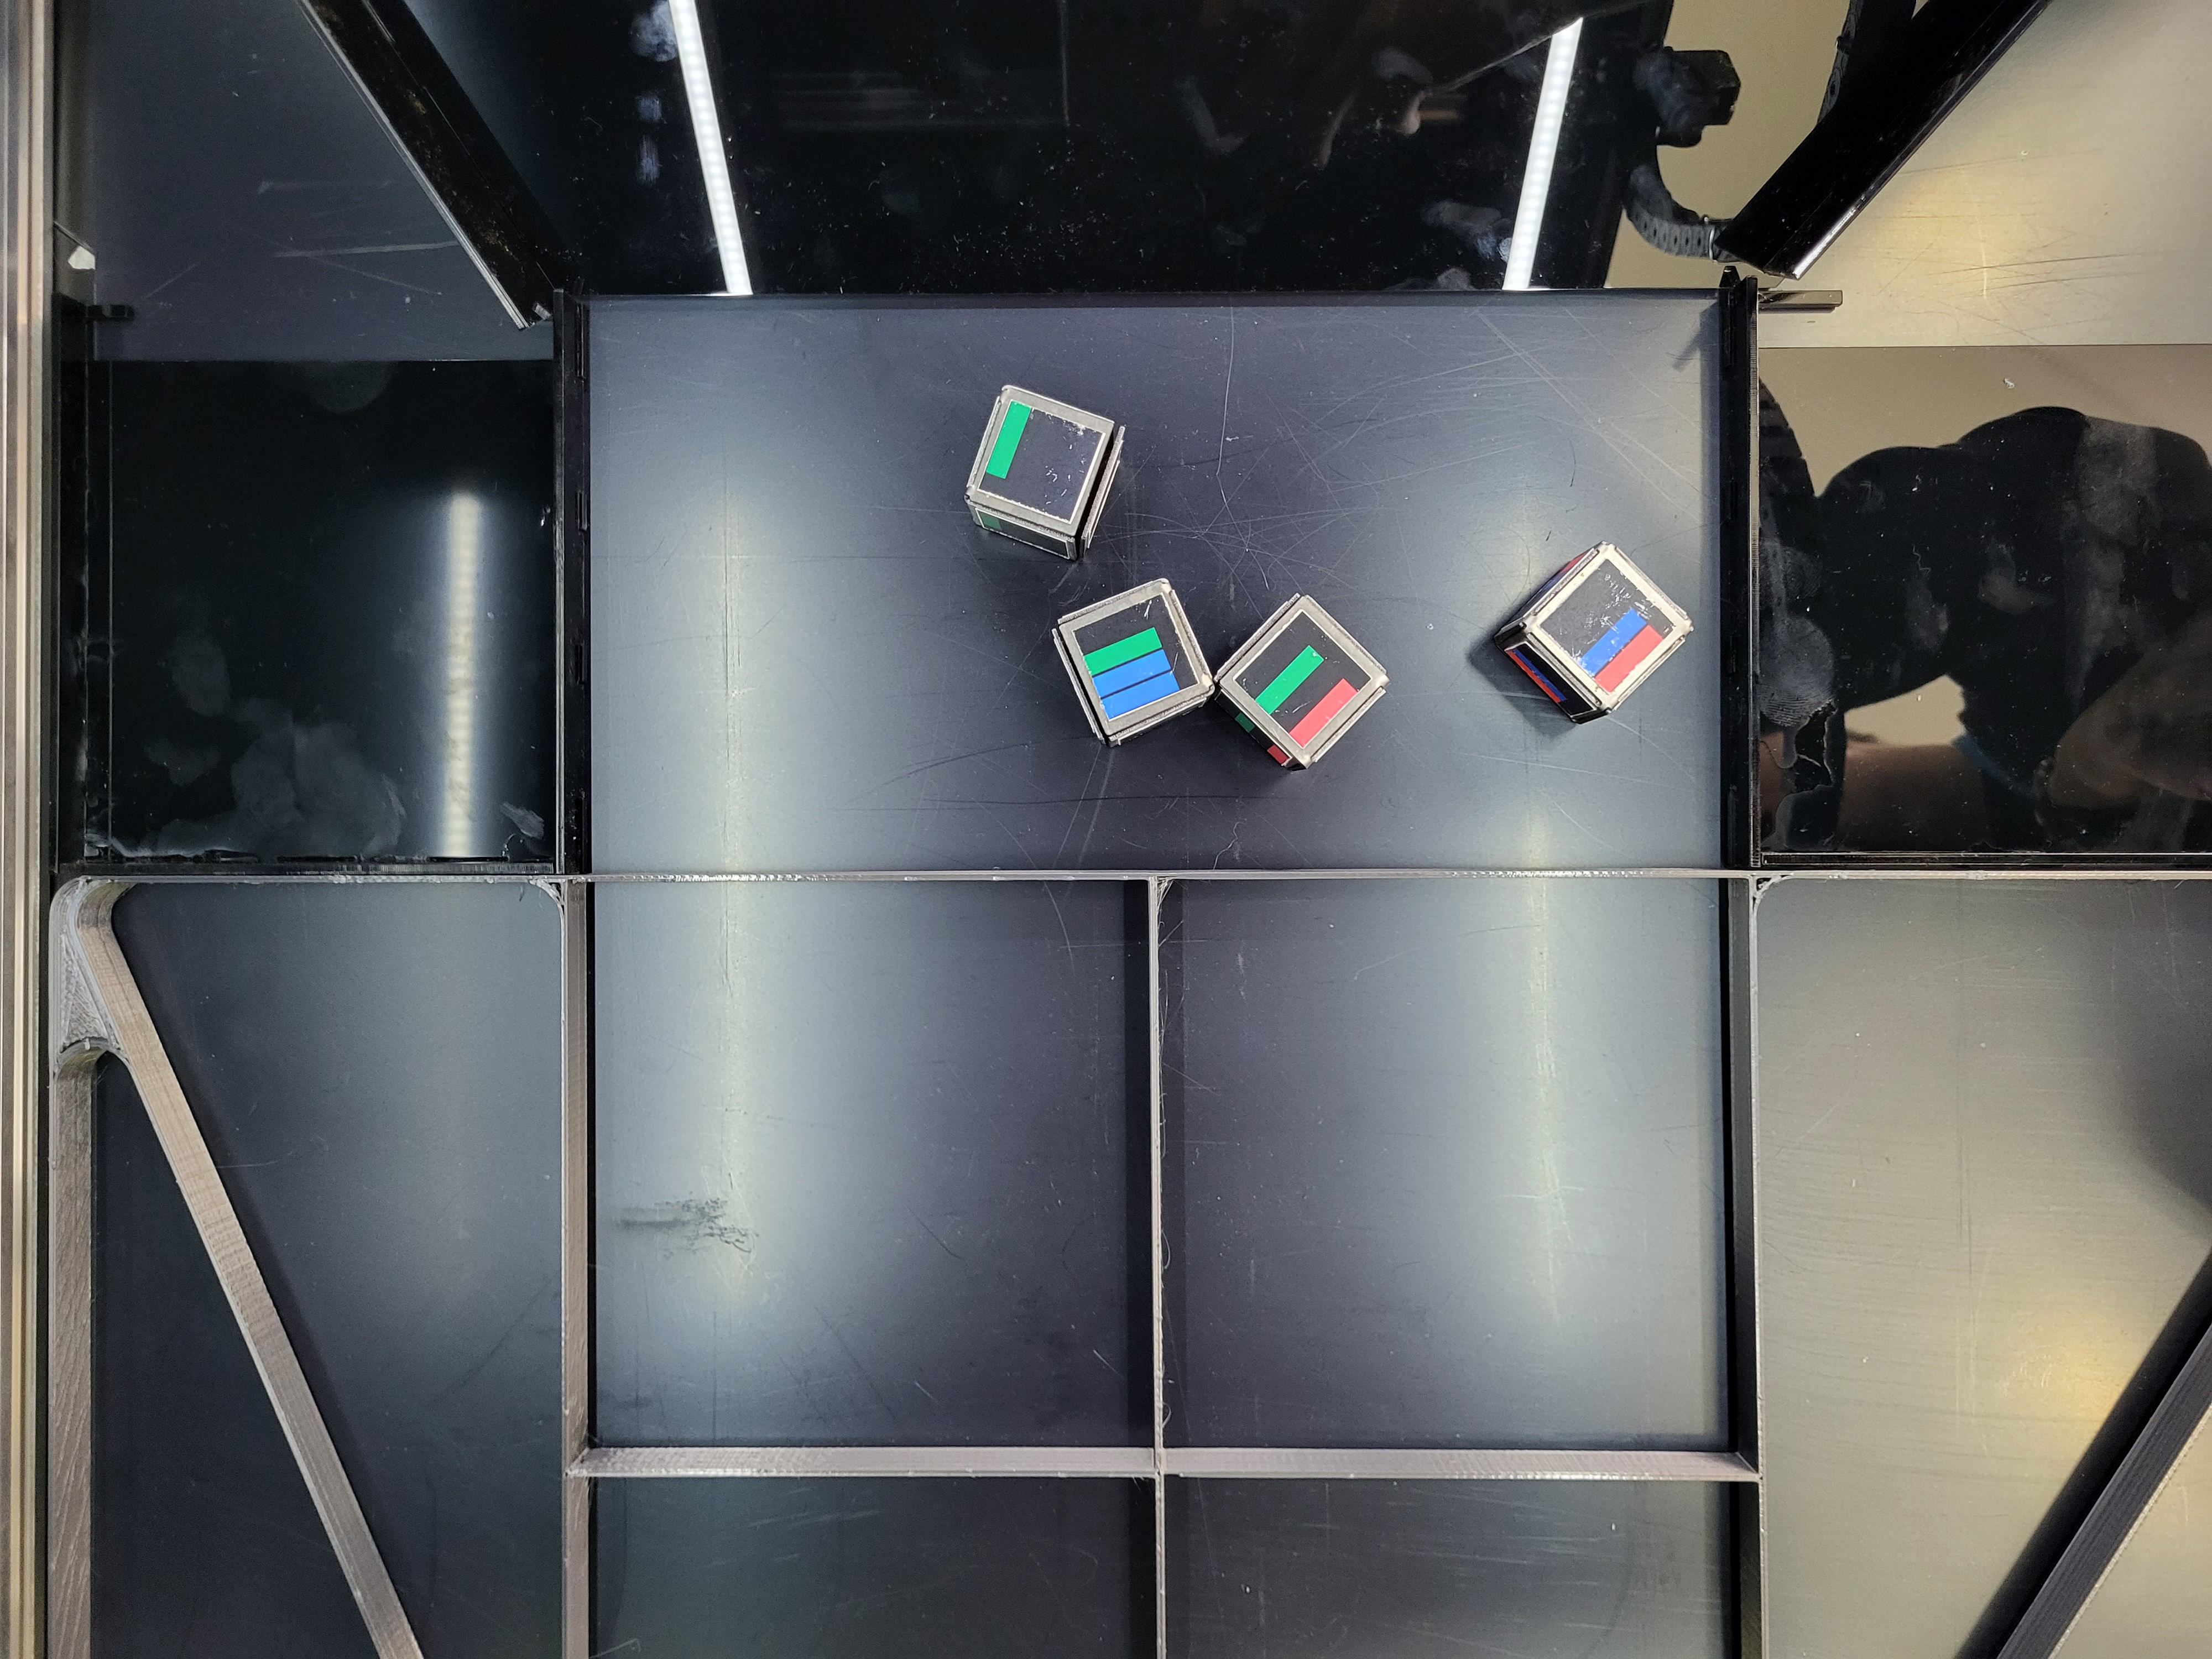Cube: (1204, 568, 1399, 786), (1496, 526, 1700, 728), (1045, 561, 1224, 772), (949, 366, 1134, 565)
